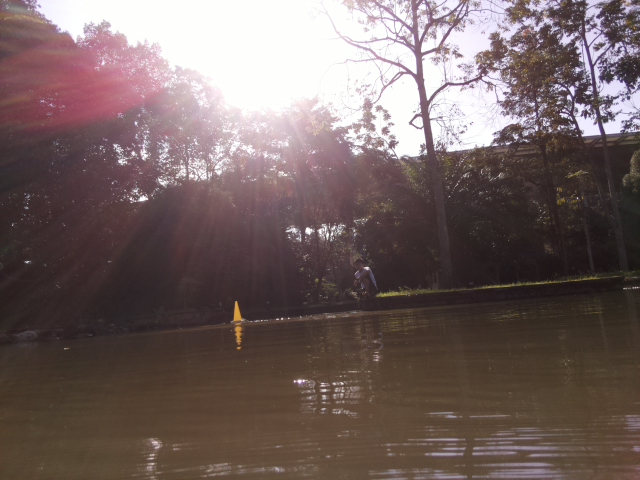checkpoint: (231, 297, 243, 321)
